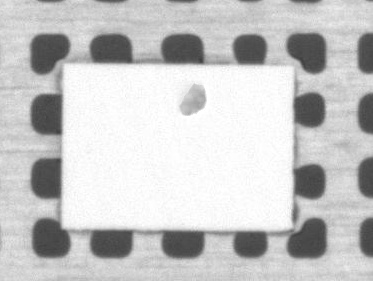DIE_INK: (178, 83, 206, 115)
